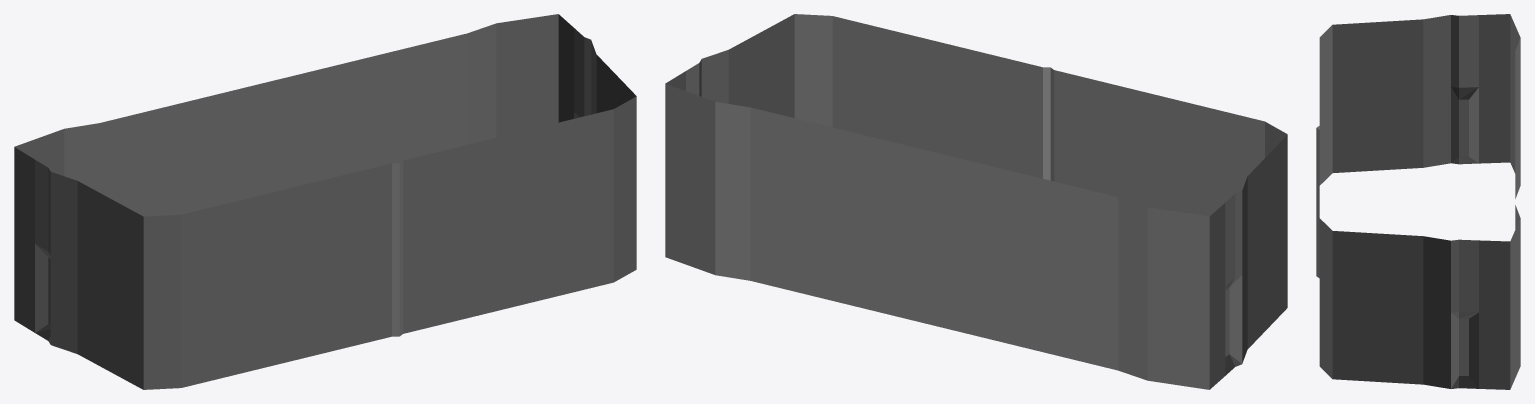
3 views of the same model, side by side, from view 1: azimuth 30°, elevation 25°; view 2: azimuth 150°, elevation 25°; view 3: azimuth 270°, elevation 25° (orthographic). The views are drawn at different scales.
Visible parts, largest first — view 1: group_13; view 2: group_13; view 3: group_13.
Part boxes in pixels (box(x1,y1,x2,y2)): group_13: box(14, 14, 636, 389); group_13: box(665, 14, 1287, 389); group_13: box(1316, 14, 1520, 389).
Size of the model in its own units: 13454 by 4096 by 5100.
Materials: 1 (1 with a texture image).
